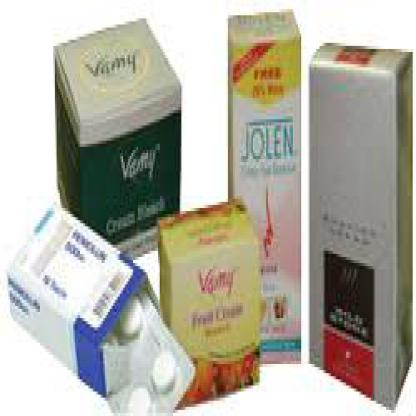CARDBOARD: (306, 40, 411, 413), (52, 12, 180, 263), (5, 202, 145, 398), (226, 6, 300, 361), (156, 199, 258, 410)
